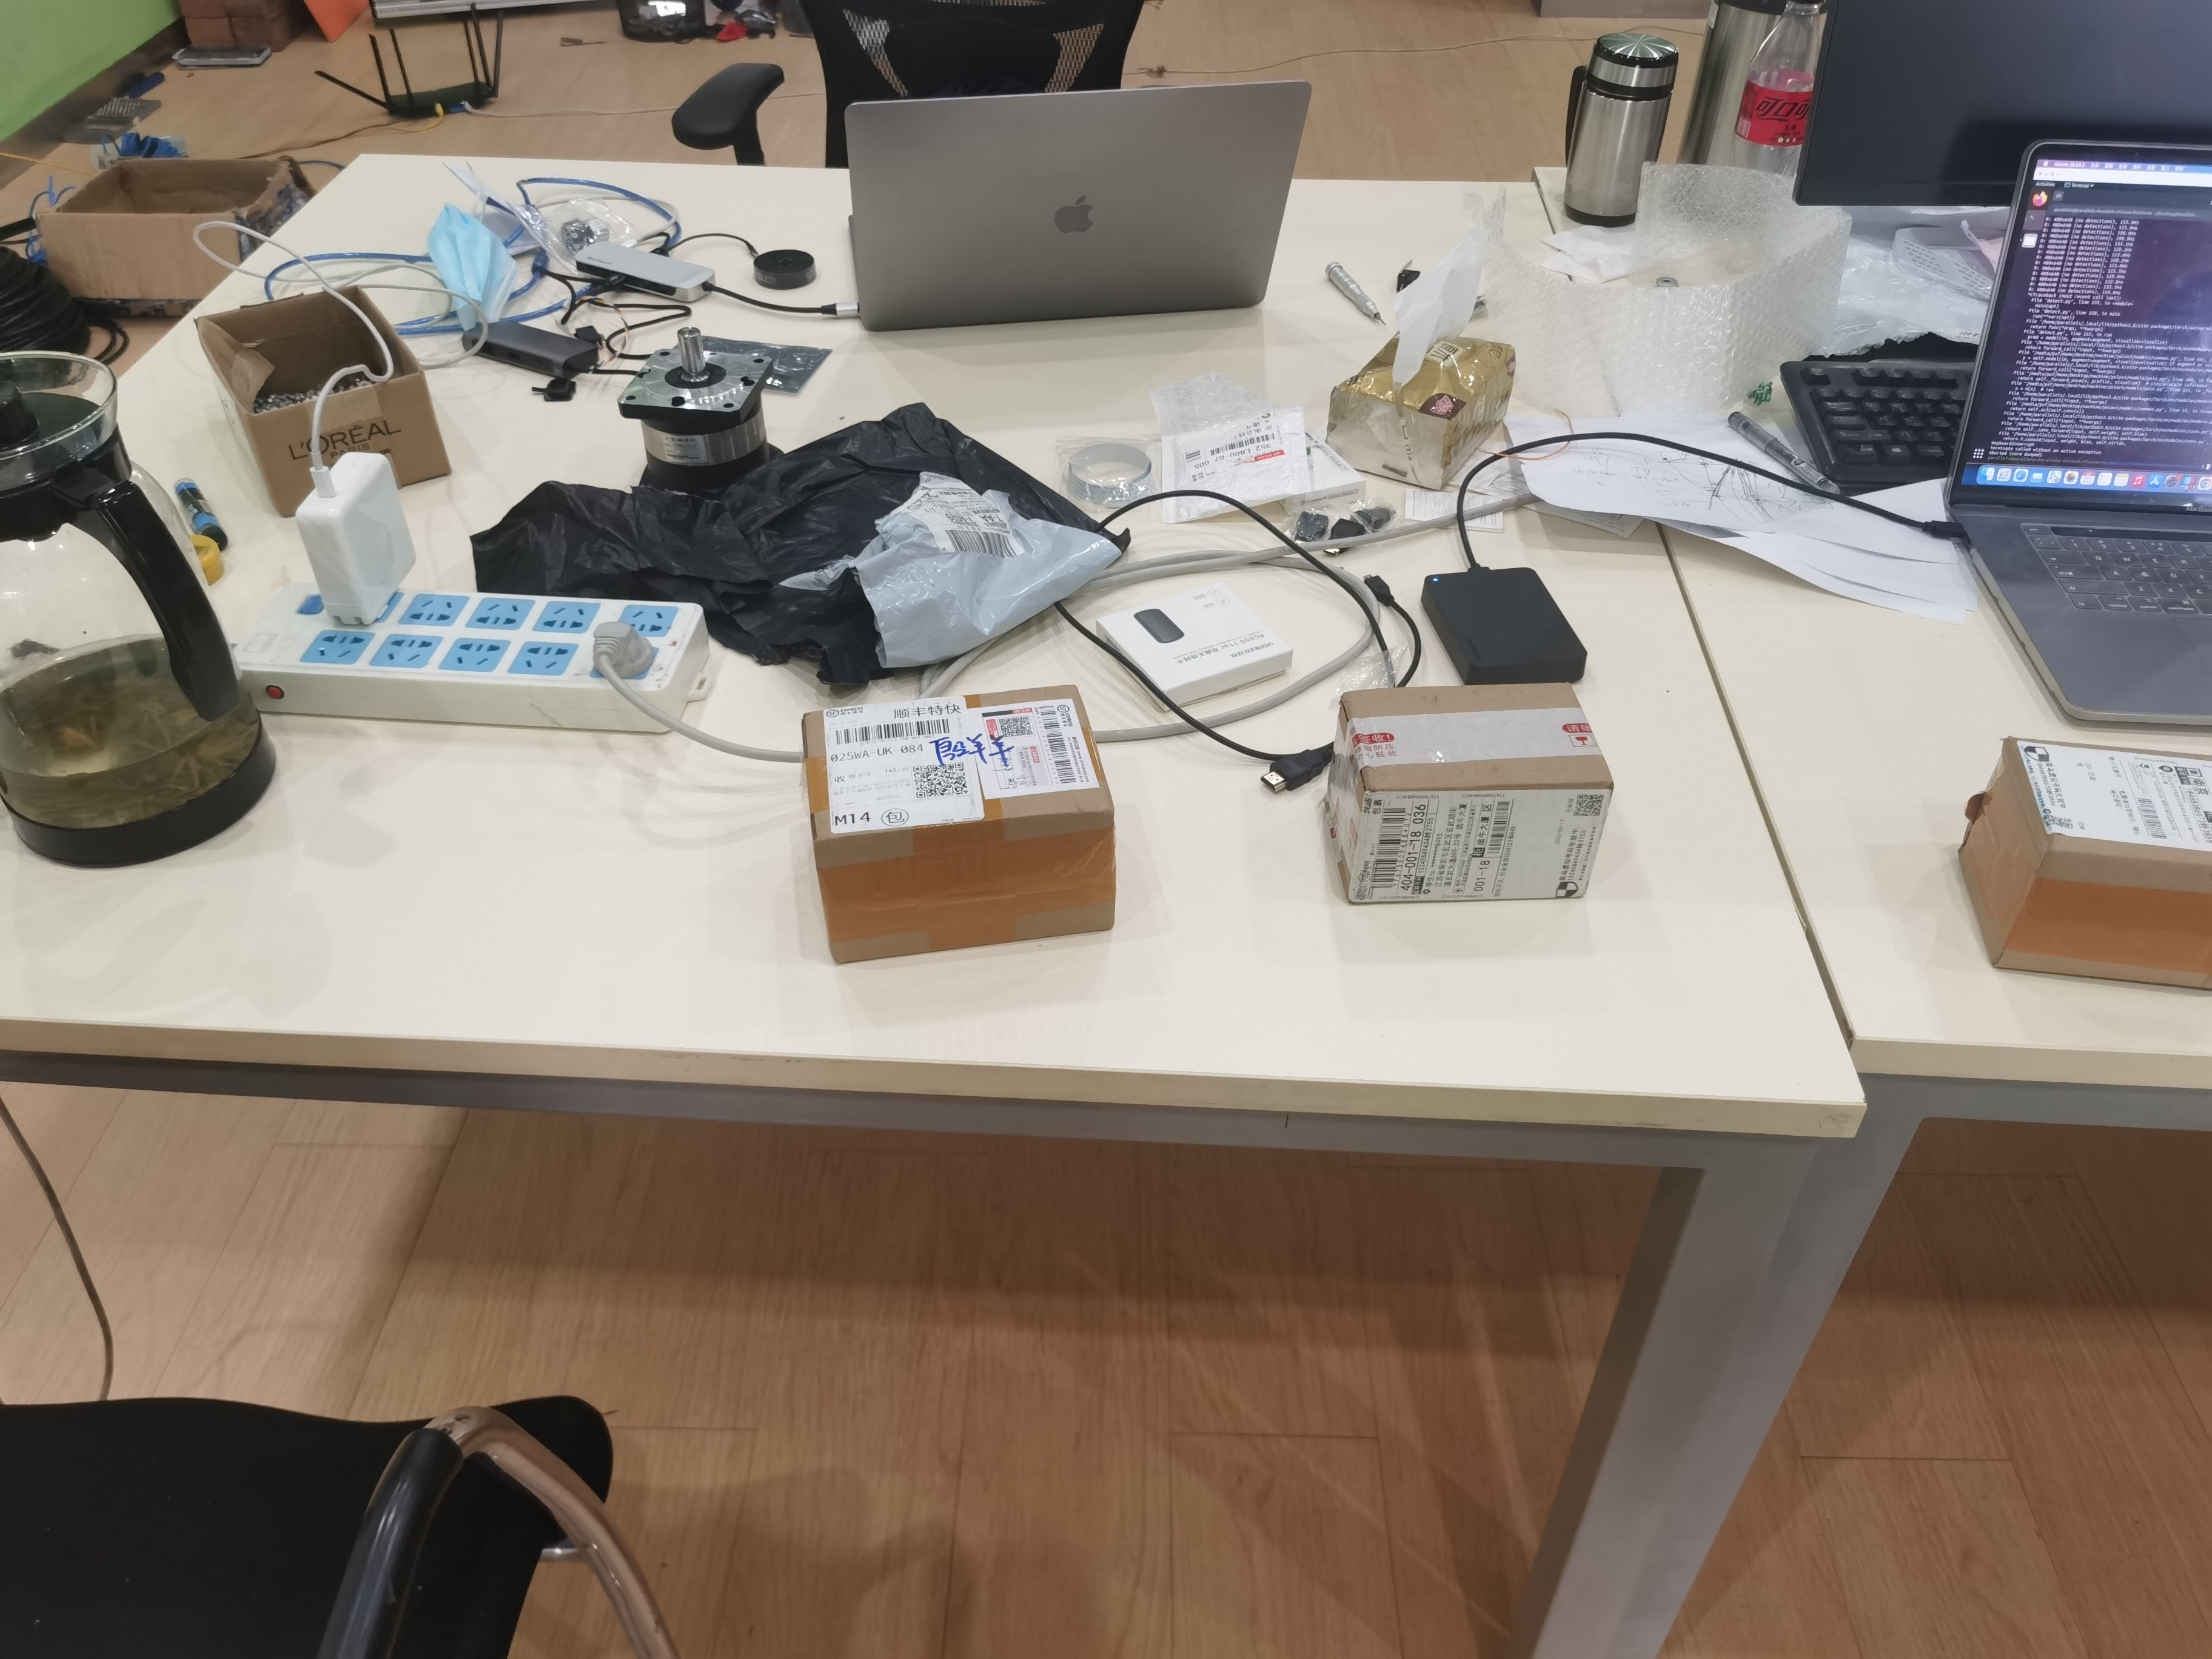box: (791, 681, 1118, 971), (1952, 727, 2212, 1000), (1320, 681, 1623, 908)
